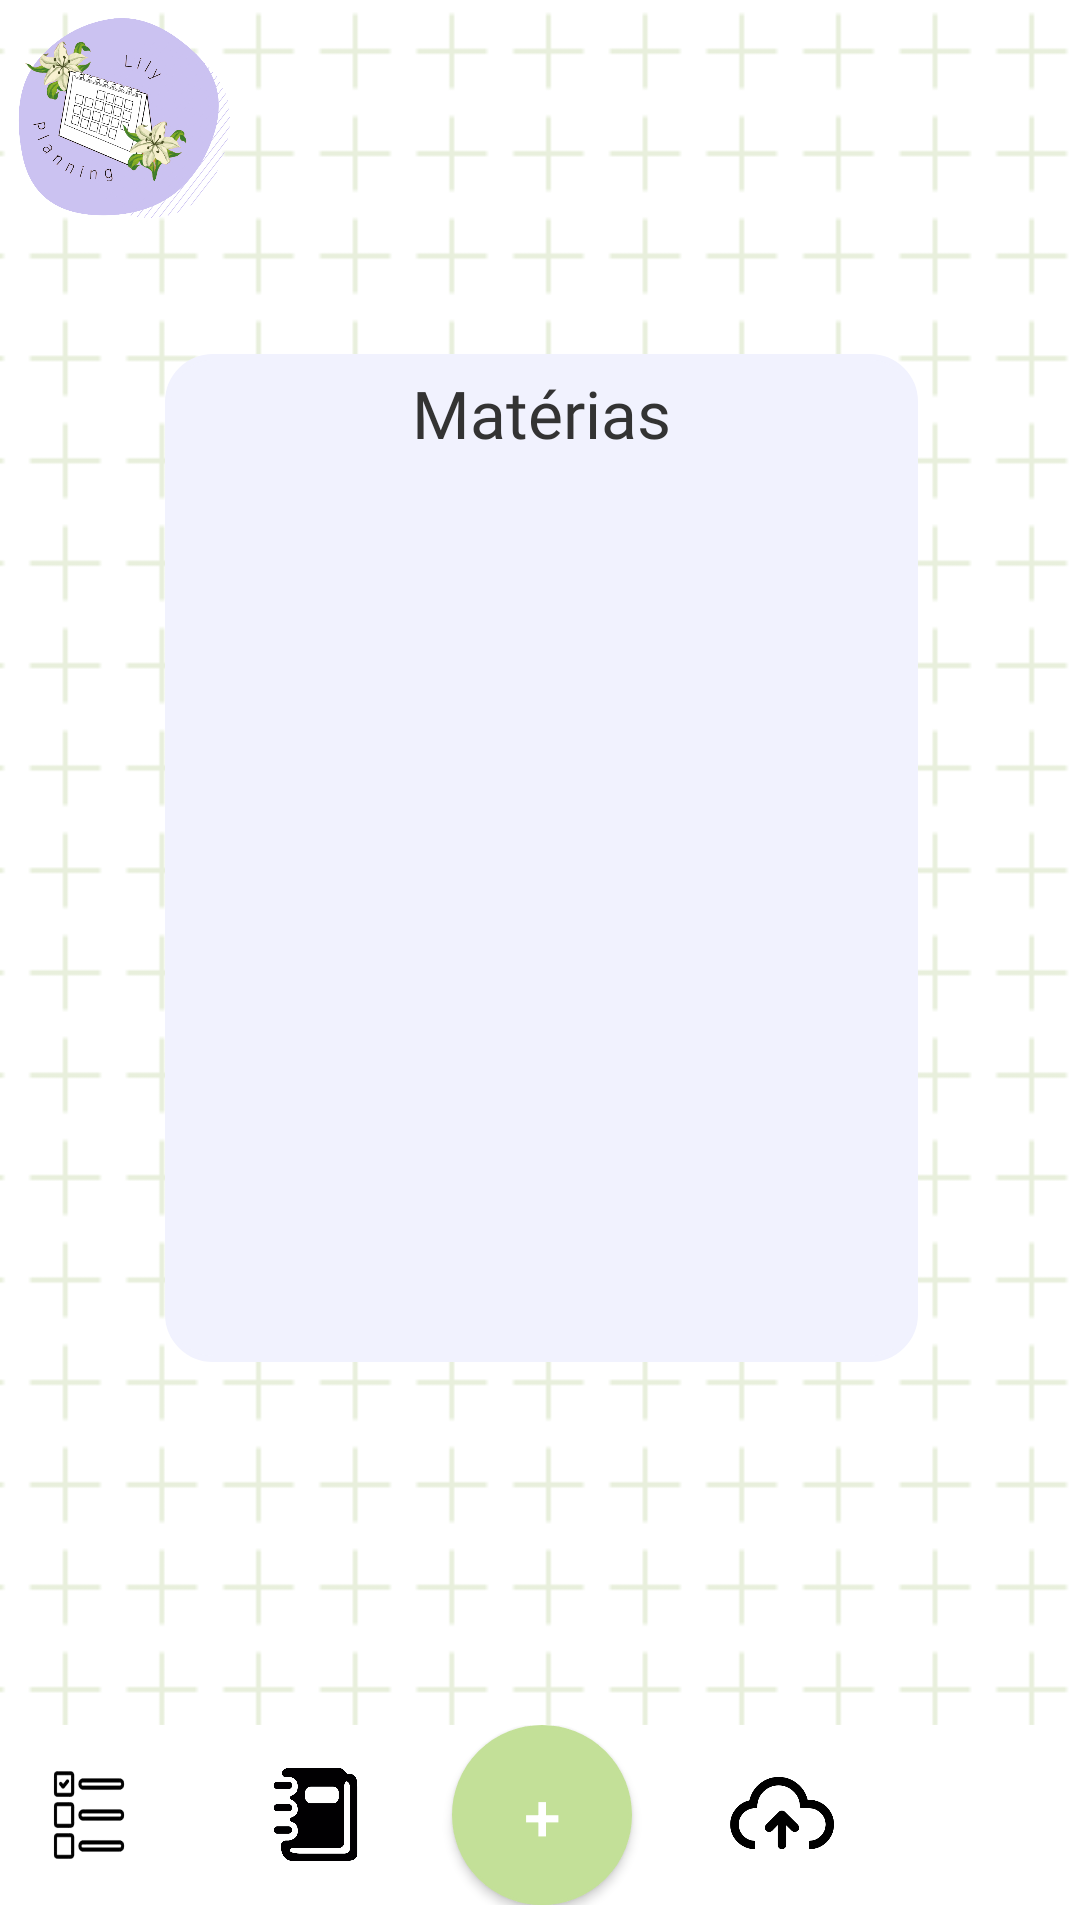

Icon bounding boxes for this 1080×1920 phone screenshot, format [x1,y1,x2,y2]:
notebook: [274,1768,357,1861]
todolist: [54,1771,125,1859]
uploads: [730,1777,834,1849]
